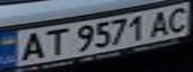1: (127, 12, 151, 42)
5: (93, 19, 115, 49)
7: (109, 16, 133, 46)
9: (69, 21, 97, 53)
A: (12, 29, 51, 62), (145, 8, 175, 38)
C: (160, 3, 193, 34)
T: (36, 26, 69, 57)
